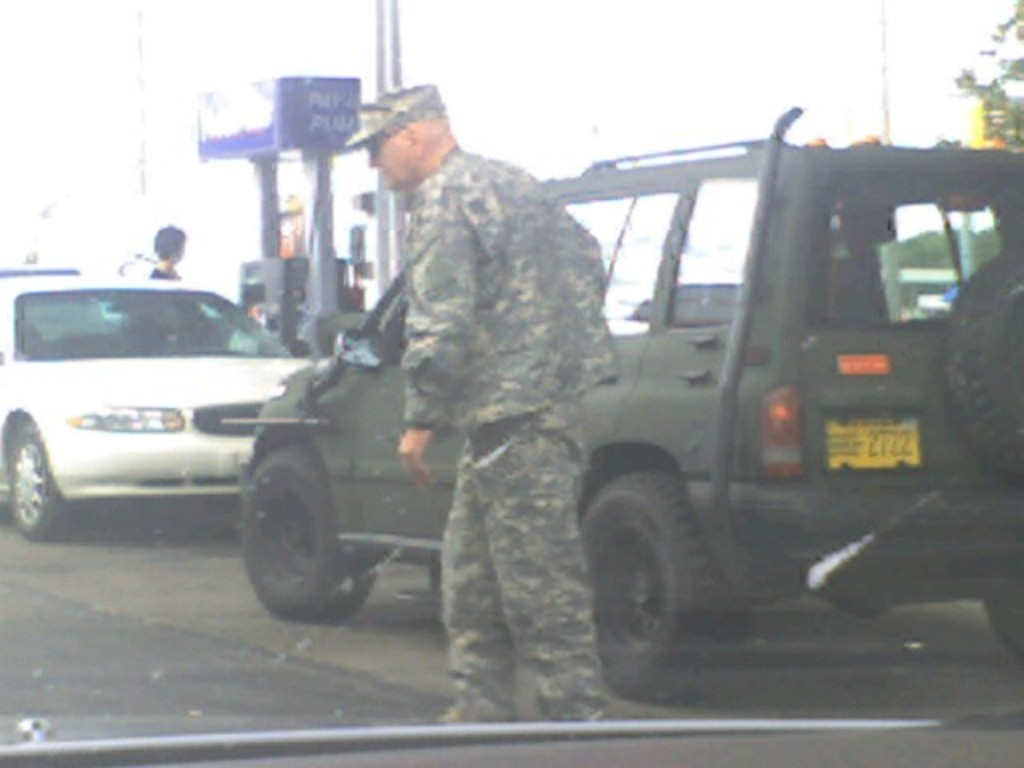car: (185, 113, 1024, 686), (1, 243, 345, 530)
